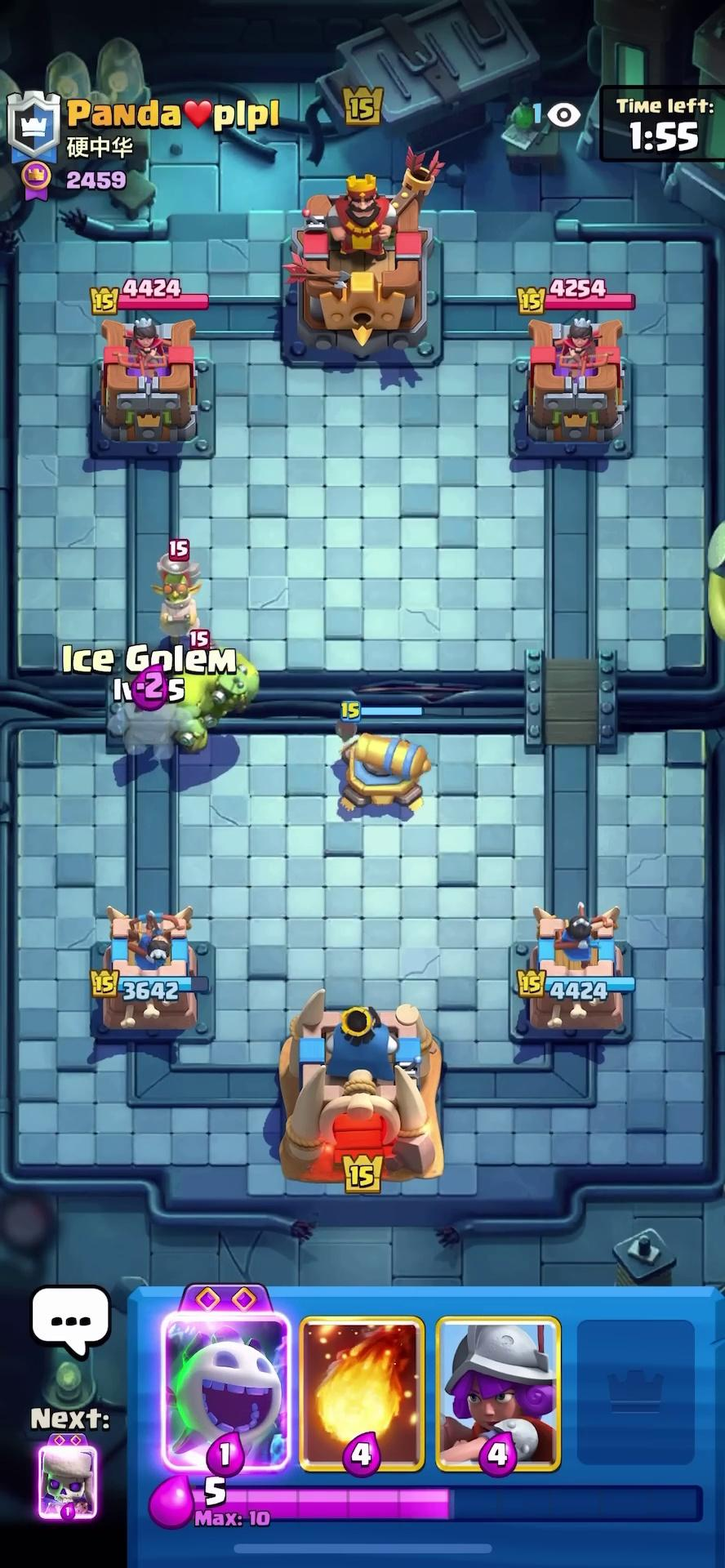cannon: (327, 706, 439, 831)
